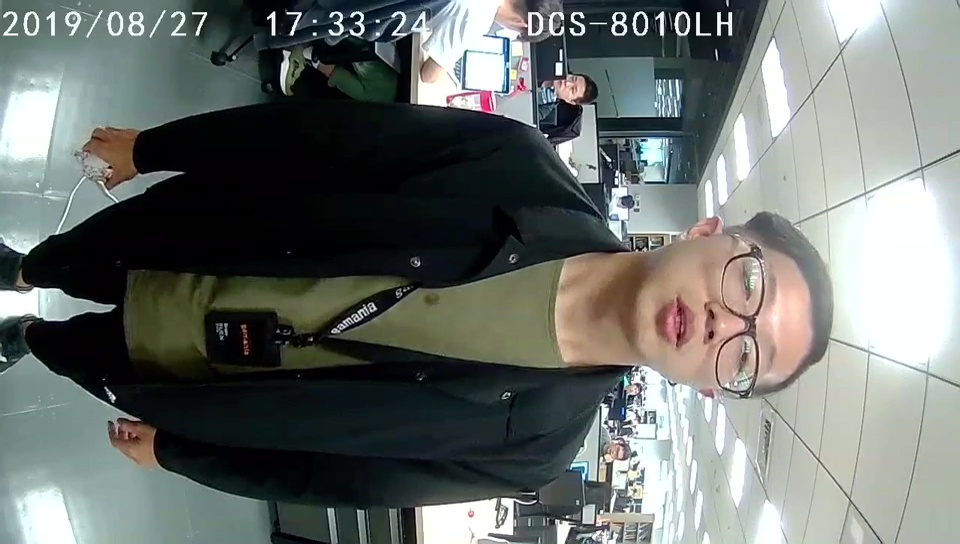pig: (81, 149, 113, 184)
